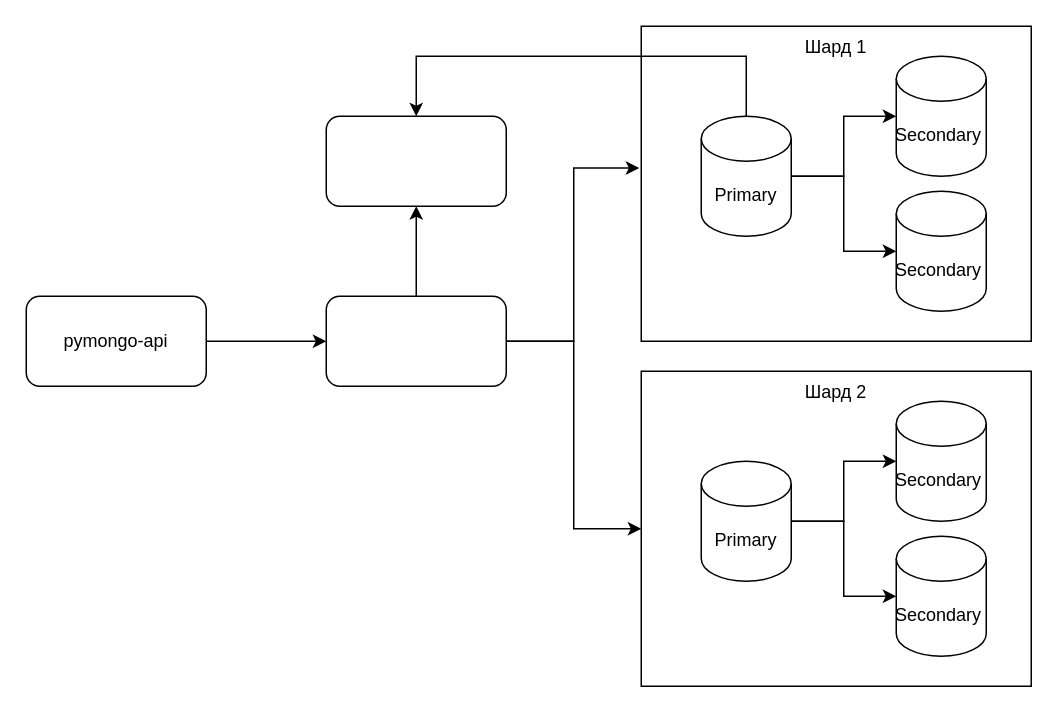
This 1058x725 diagram has some shape labels left out. Each missing label, with the centre of its shape:
"Роутер" goes at [415,340].
"Сервер конфигураций" goes at [415,160].
